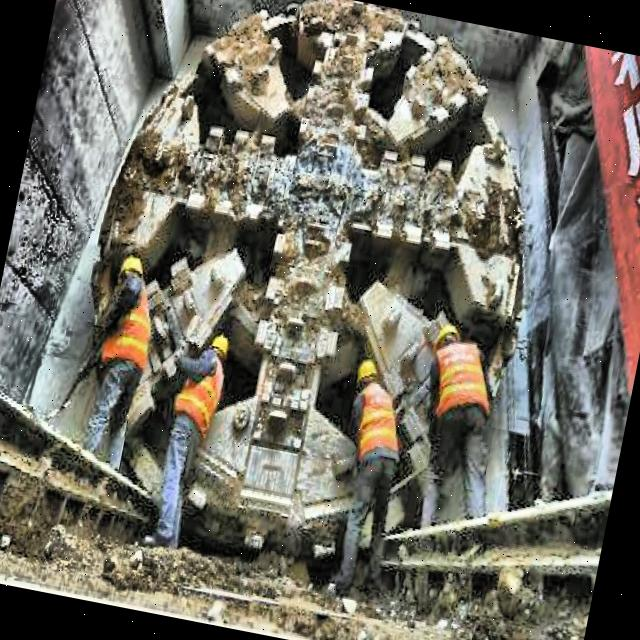helmet: (114, 247, 150, 295), (430, 319, 464, 362), (351, 354, 382, 394), (204, 329, 235, 366)
